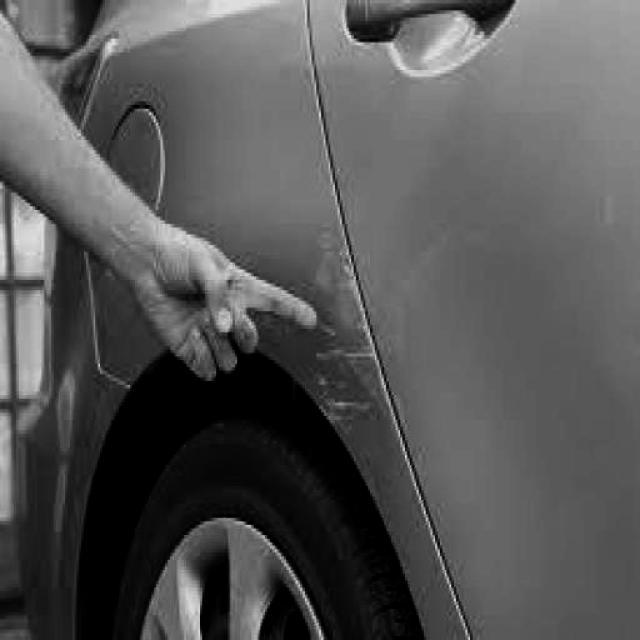car damage: (310, 218, 389, 430)
